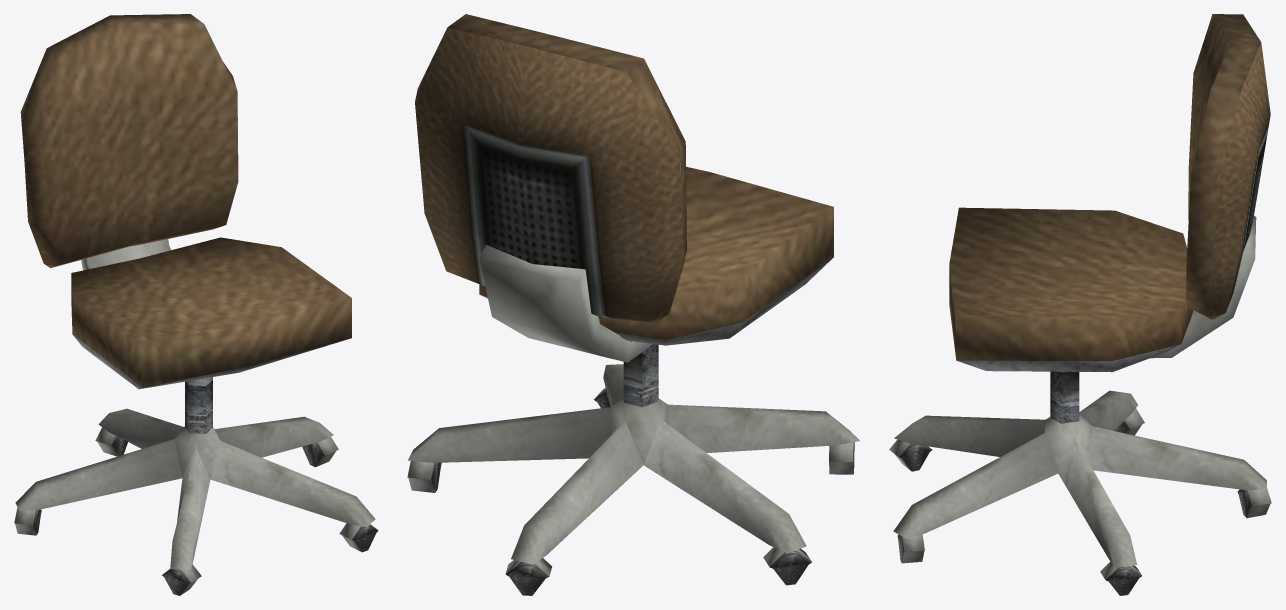
The model's file is ConferenceChair.fbx.
The picture shows the model from 3 angles, left to right: view 1: azimuth 30°, elevation 25°; view 2: azimuth 150°, elevation 25°; view 3: azimuth 270°, elevation 25°; orthographic projection. The views are drawn at different scales.
Parts seen in each view (by area): view 1: polySurface1469; view 2: polySurface1469; view 3: polySurface1469.
Part boxes in pixels (bbox=[...]): polySurface1469: bbox=[14, 14, 378, 595]; polySurface1469: bbox=[407, 14, 859, 595]; polySurface1469: bbox=[889, 14, 1271, 595].
Size of the model in its own units: 127 by 165 by 121.
